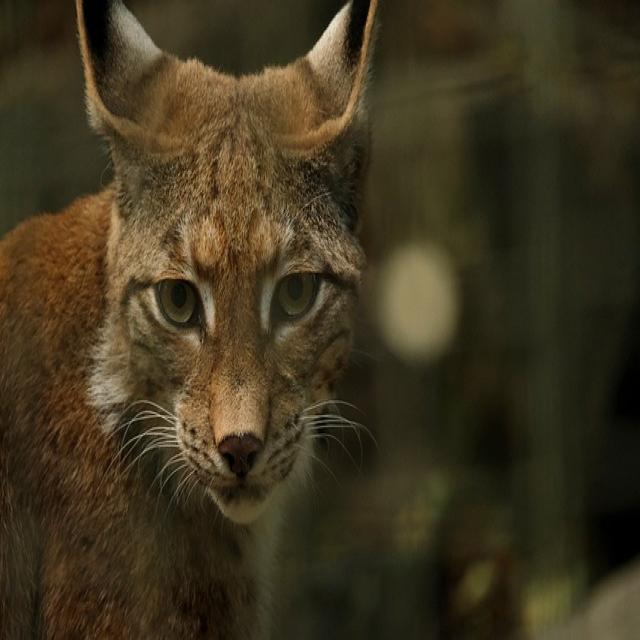Carnivorous: (0, 0, 382, 640)
